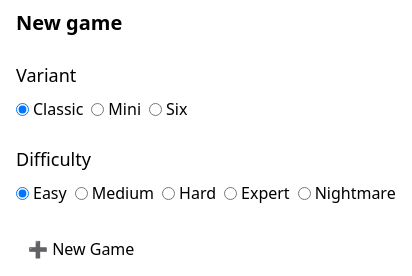
Test: Home screen › shows only Easy when Six is selected
Click the radio button with test id "home-variant-six" at (156, 109), box [149,102,162,116]
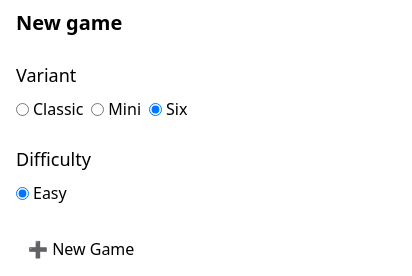
Result: the radio button with test id "home-difficulty-medium" is gone
Result: the radio button with test id "home-difficulty-hard" is gone
Result: the radio button with test id "home-difficulty-expert" is gone
